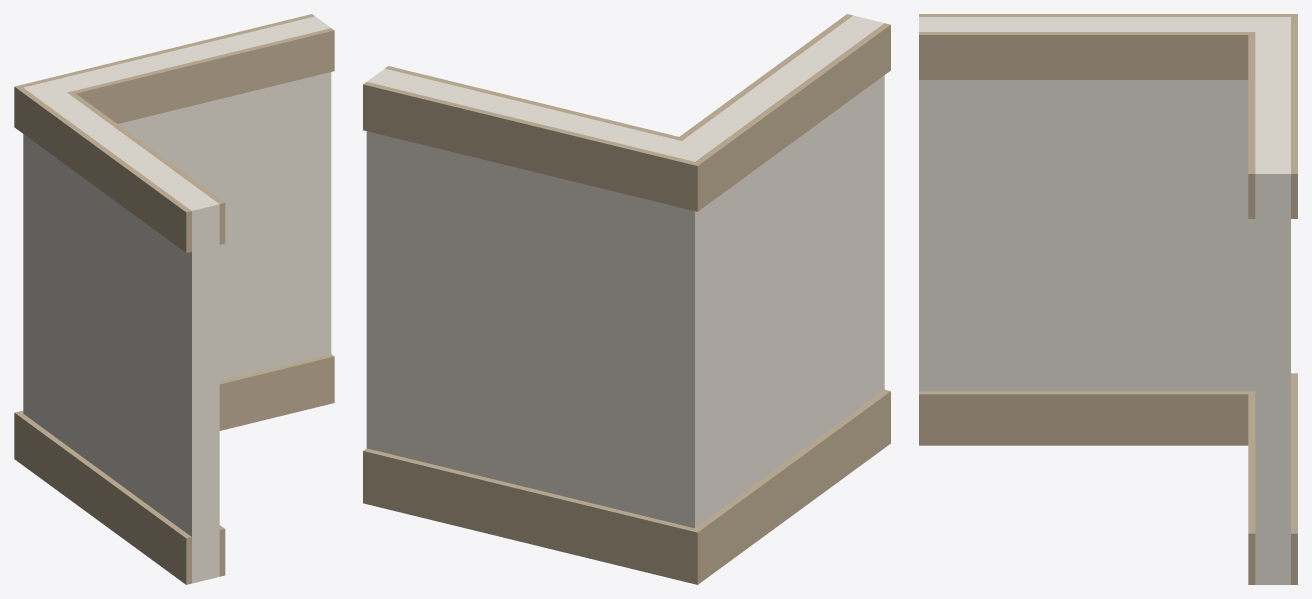
The model's file is partitionLowElbow.glb.
The picture shows the model from 3 angles, left to right: view 1: azimuth 30°, elevation 25°; view 2: azimuth 150°, elevation 25°; view 3: azimuth 270°, elevation 25°; orthographic projection. The views are drawn at different scales.
Visible parts, largest first — view 1: partitionLowElbow; view 2: partitionLowElbow; view 3: partitionLowElbow.
Boxes of the visible parts, x1=… form: partitionLowElbow: x1=14, y1=14, x2=334, y2=584; partitionLowElbow: x1=363, y1=14, x2=890, y2=584; partitionLowElbow: x1=919, y1=14, x2=1297, y2=584.
Size of the model in its own units: 0.535 by 0.64 by 0.535.
1 material, 1 textured.
